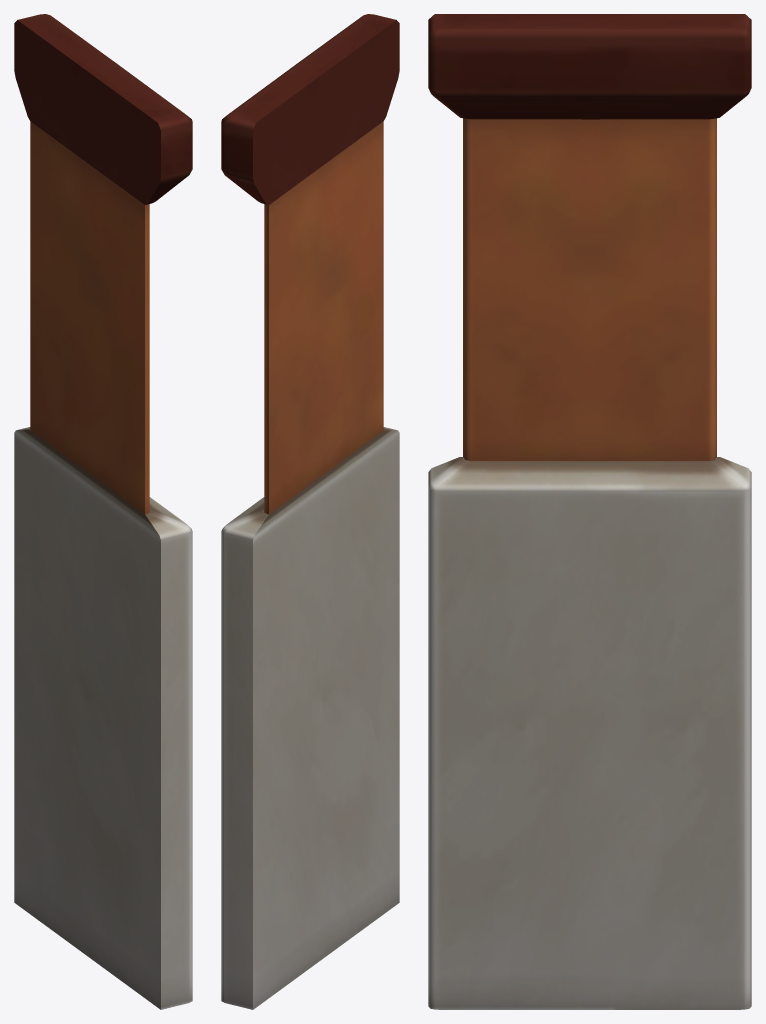
File: Wall_End.fbx
3 renders of one model, left to right at view 1: azimuth 30°, elevation 25°; view 2: azimuth 150°, elevation 25°; view 3: azimuth 270°, elevation 25°, orthographic. The views are drawn at different scales.
Parts seen in each view (by area): view 1: m_city_wall_end_01; view 2: m_city_wall_end_01; view 3: m_city_wall_end_01.
Part boxes in pixels (x1,y1,x2,y2): m_city_wall_end_01: (14,14,192,1009); m_city_wall_end_01: (221,14,399,1009); m_city_wall_end_01: (428,14,751,1009).
Bounding box in the file's own units: 8.28 × 200 × 60.
